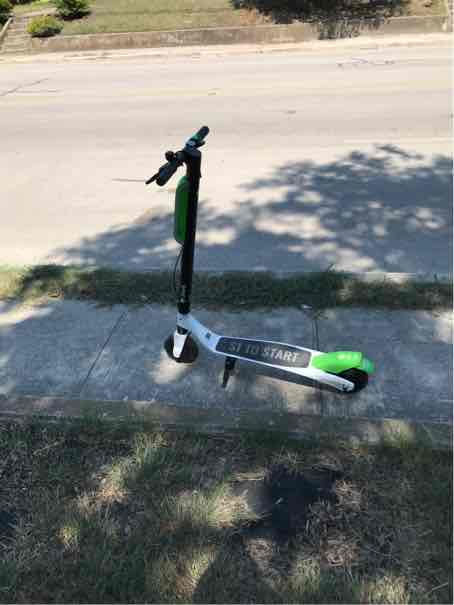scooter: (143, 112, 380, 396)
